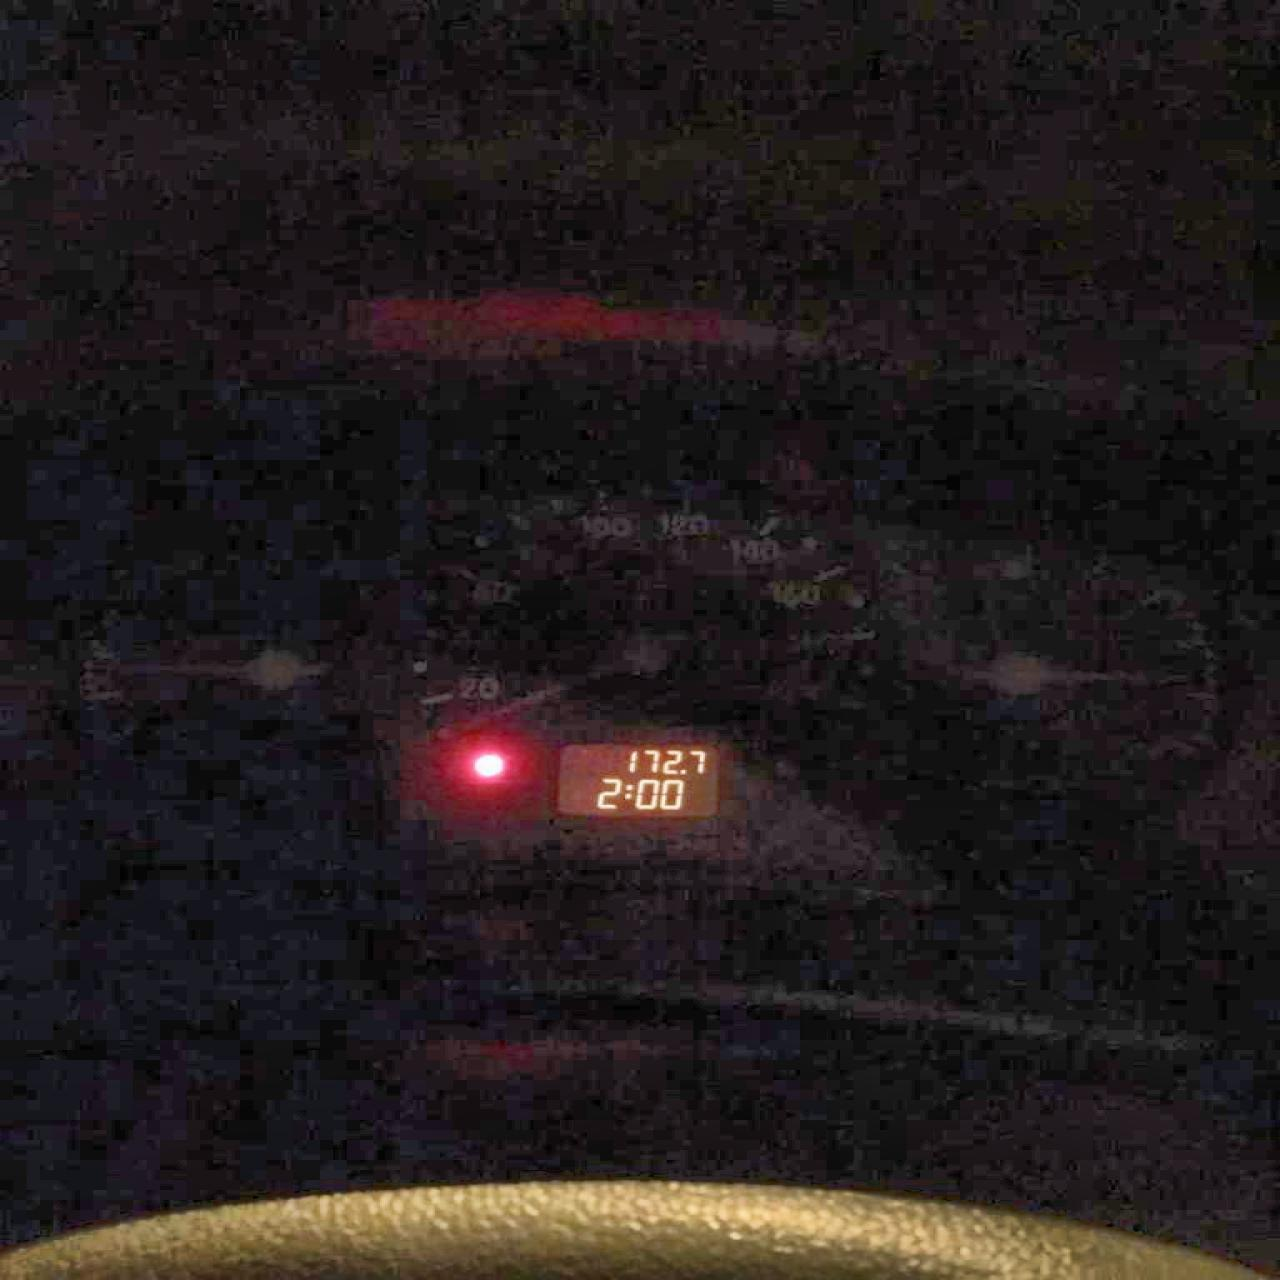-: (680, 769, 685, 774)
0: (633, 776, 656, 810), (659, 778, 682, 810)
1: (624, 749, 639, 772)
2: (592, 775, 620, 810), (660, 749, 680, 774)
7: (685, 749, 708, 772), (640, 748, 660, 771)
X: (621, 783, 633, 798)
odometer: (550, 738, 720, 819)
